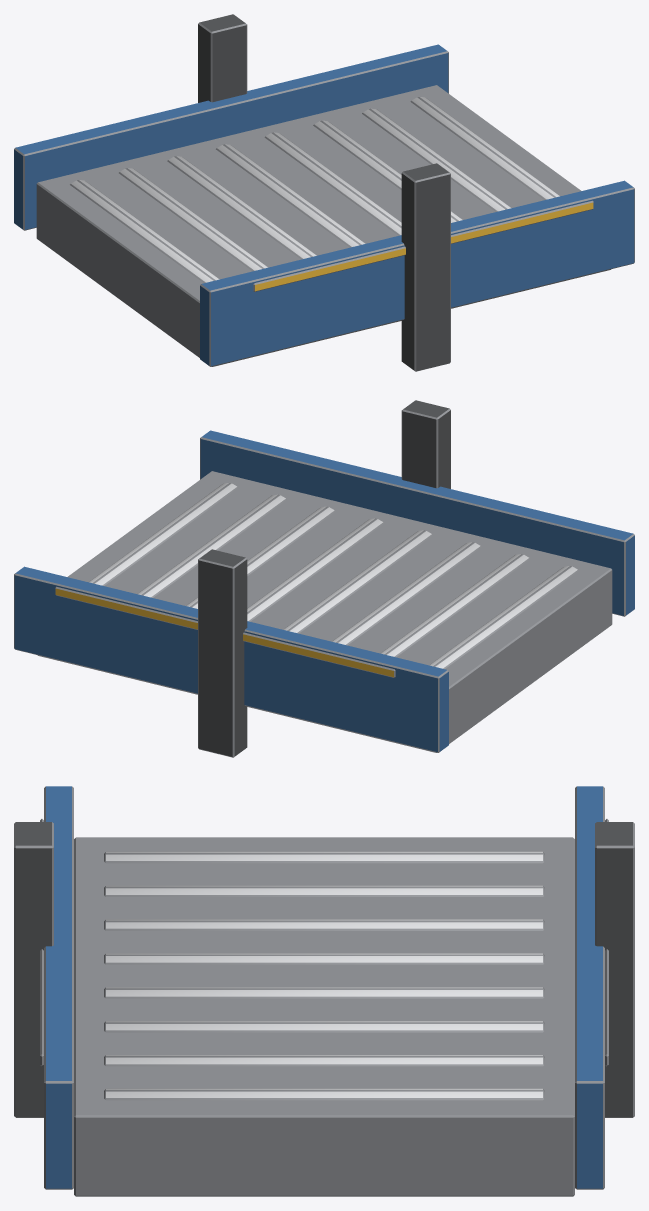
The model's file is shuttle_carriage.fbx.
3 renders of one model, top to bottom at view 1: azimuth 30°, elevation 25°; view 2: azimuth 150°, elevation 25°; view 3: azimuth 270°, elevation 25°, orthographic. The views are drawn at different scales.
Parts seen in each view (by area): view 1: LiftCarriage_Body; view 2: LiftCarriage_Body; view 3: LiftCarriage_Body.
Boxes of the visible parts, x1,y1,x2,y2 form: LiftCarriage_Body: (14,14,634,371); LiftCarriage_Body: (14,400,634,757); LiftCarriage_Body: (14,786,634,1196).
Size of the model in its own units: 0.7 by 0.3 by 0.62.
